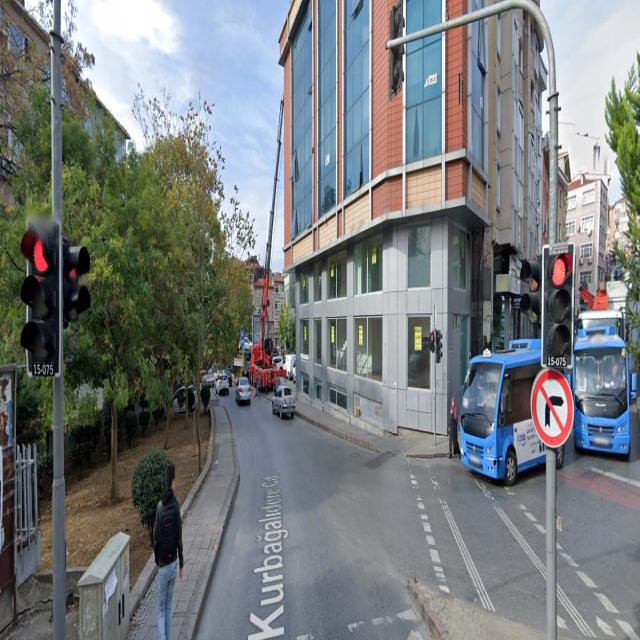kirmizi: (25, 213, 59, 369), (540, 243, 572, 369)
sagadonulmez: (532, 366, 573, 446)
